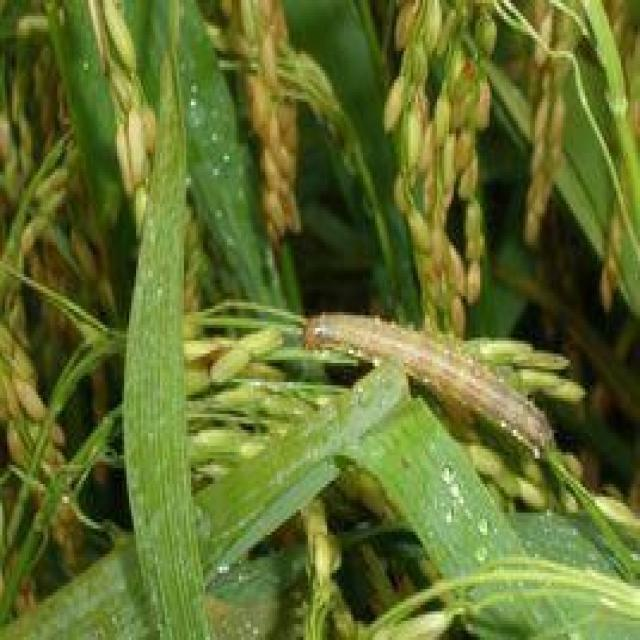army worm: (301, 307, 556, 466)
